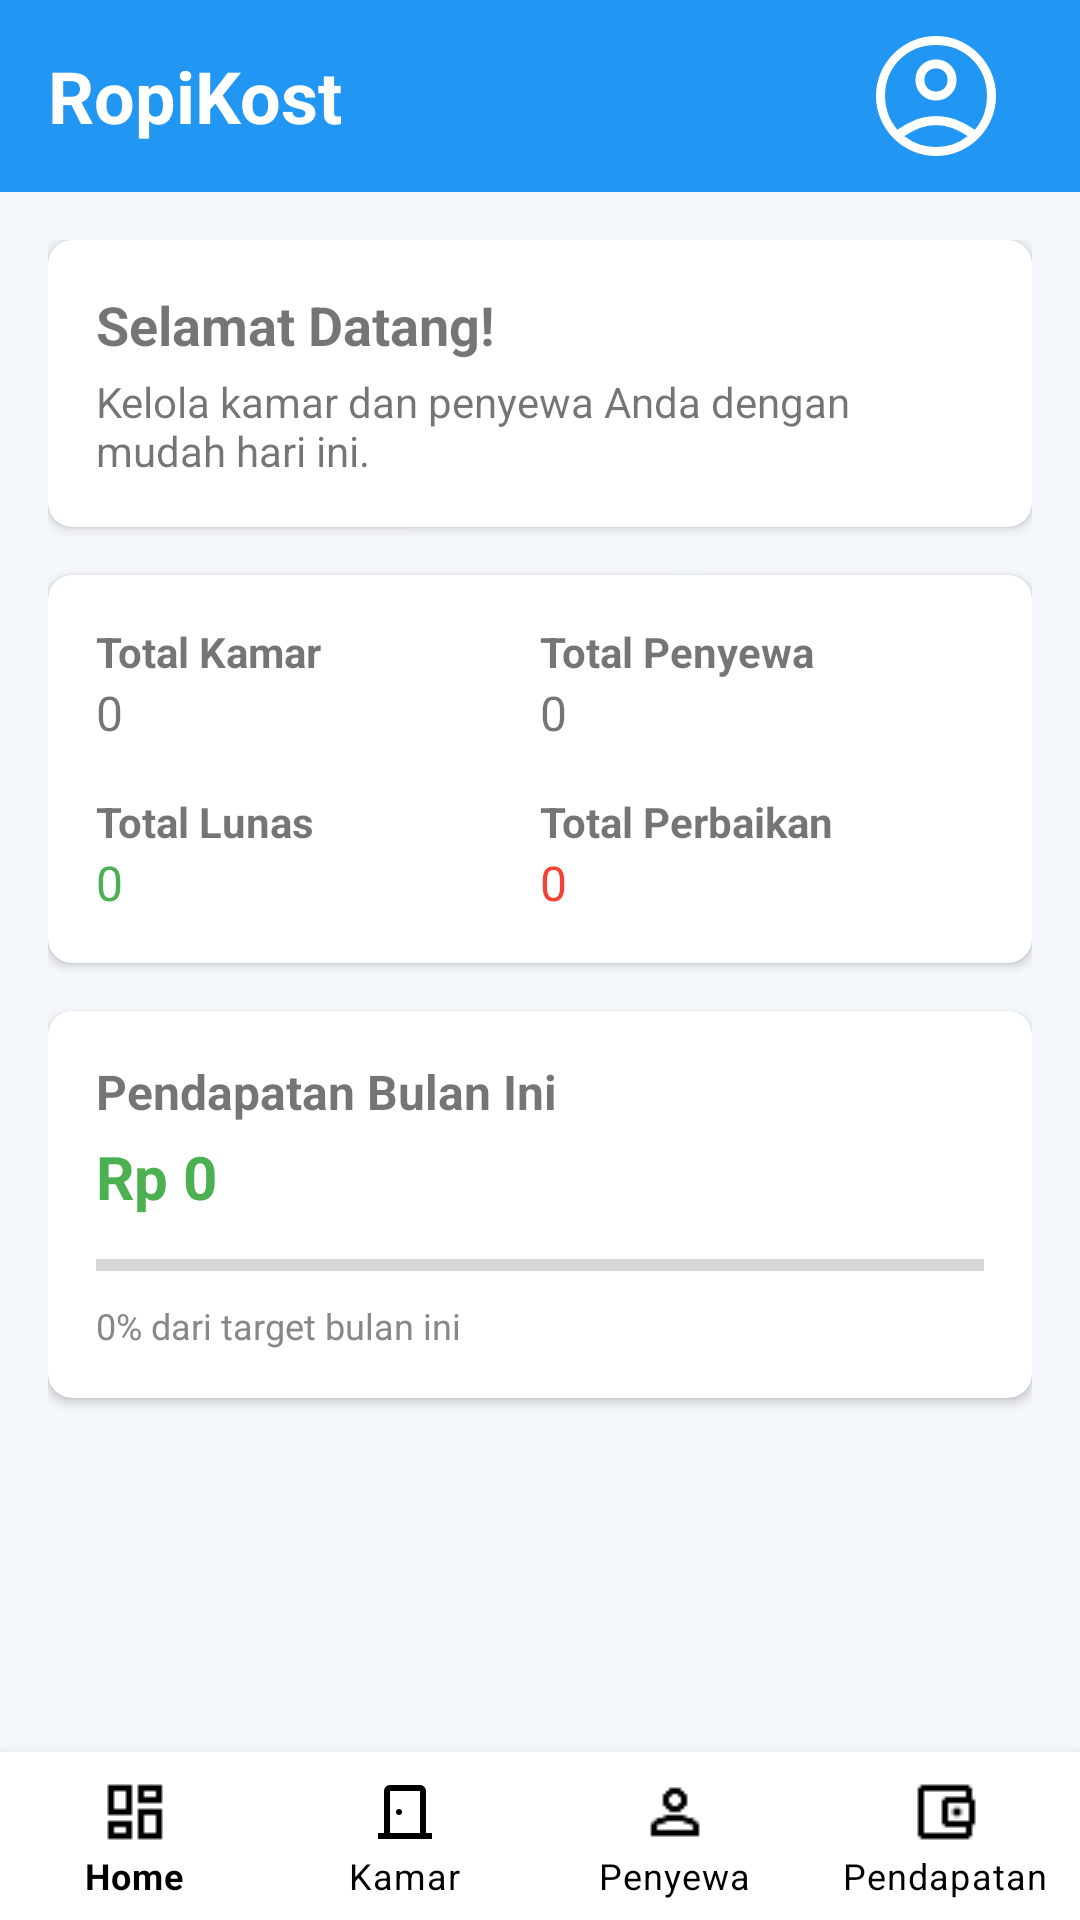

Icons on this 1080*1920 Android screen, each with its box as (left=x1, top=y1, right=x2, bottom=y2):
Profile: (left=876, top=36, right=996, bottom=156)
